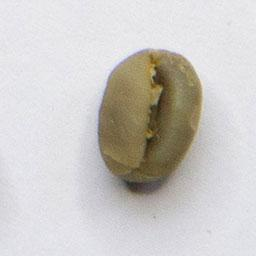peaberry: (94, 45, 205, 189)
